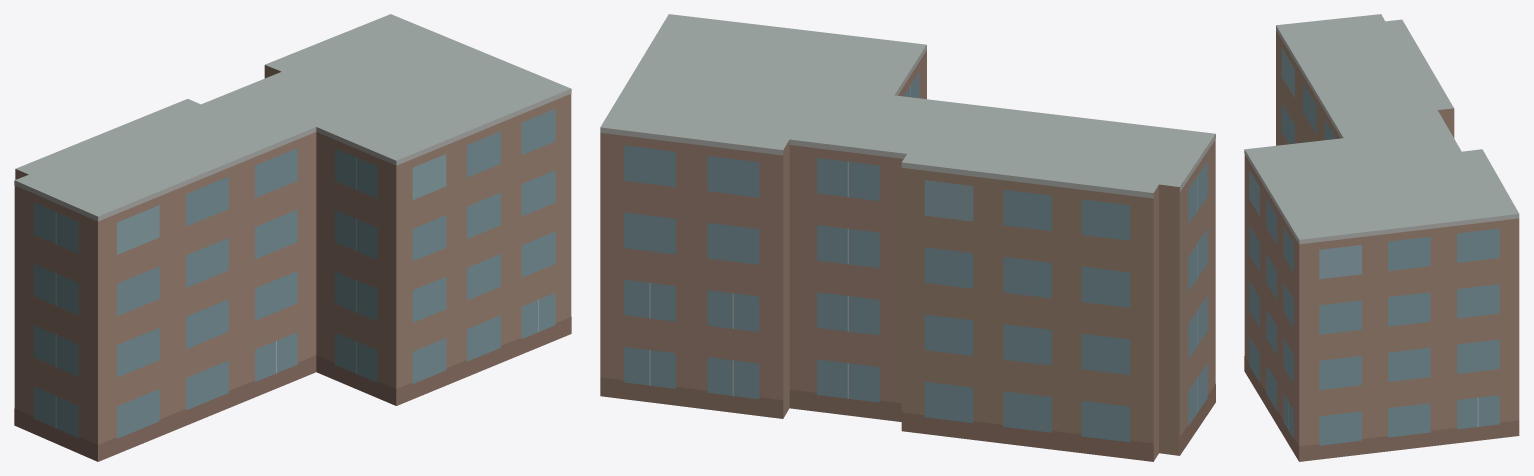
Rendered from survey-upis-32651290.glb.
3 renders of one model, left to right at view 1: azimuth 30°, elevation 25°; view 2: azimuth 150°, elevation 25°; view 3: azimuth 270°, elevation 25°, orthographic. The views are drawn at different scales.
Parts seen in each view (by area): view 1: survey-upis-32651290.tmp; view 2: survey-upis-32651290.tmp; view 3: survey-upis-32651290.tmp.
Boxes of the visible parts, x1,y1,x2,y2 form: survey-upis-32651290.tmp: [14, 14, 571, 461]; survey-upis-32651290.tmp: [600, 14, 1215, 461]; survey-upis-32651290.tmp: [1244, 14, 1519, 461].
Bounding box in the file's own units: 26.64 × 12.2 × 13.7.
